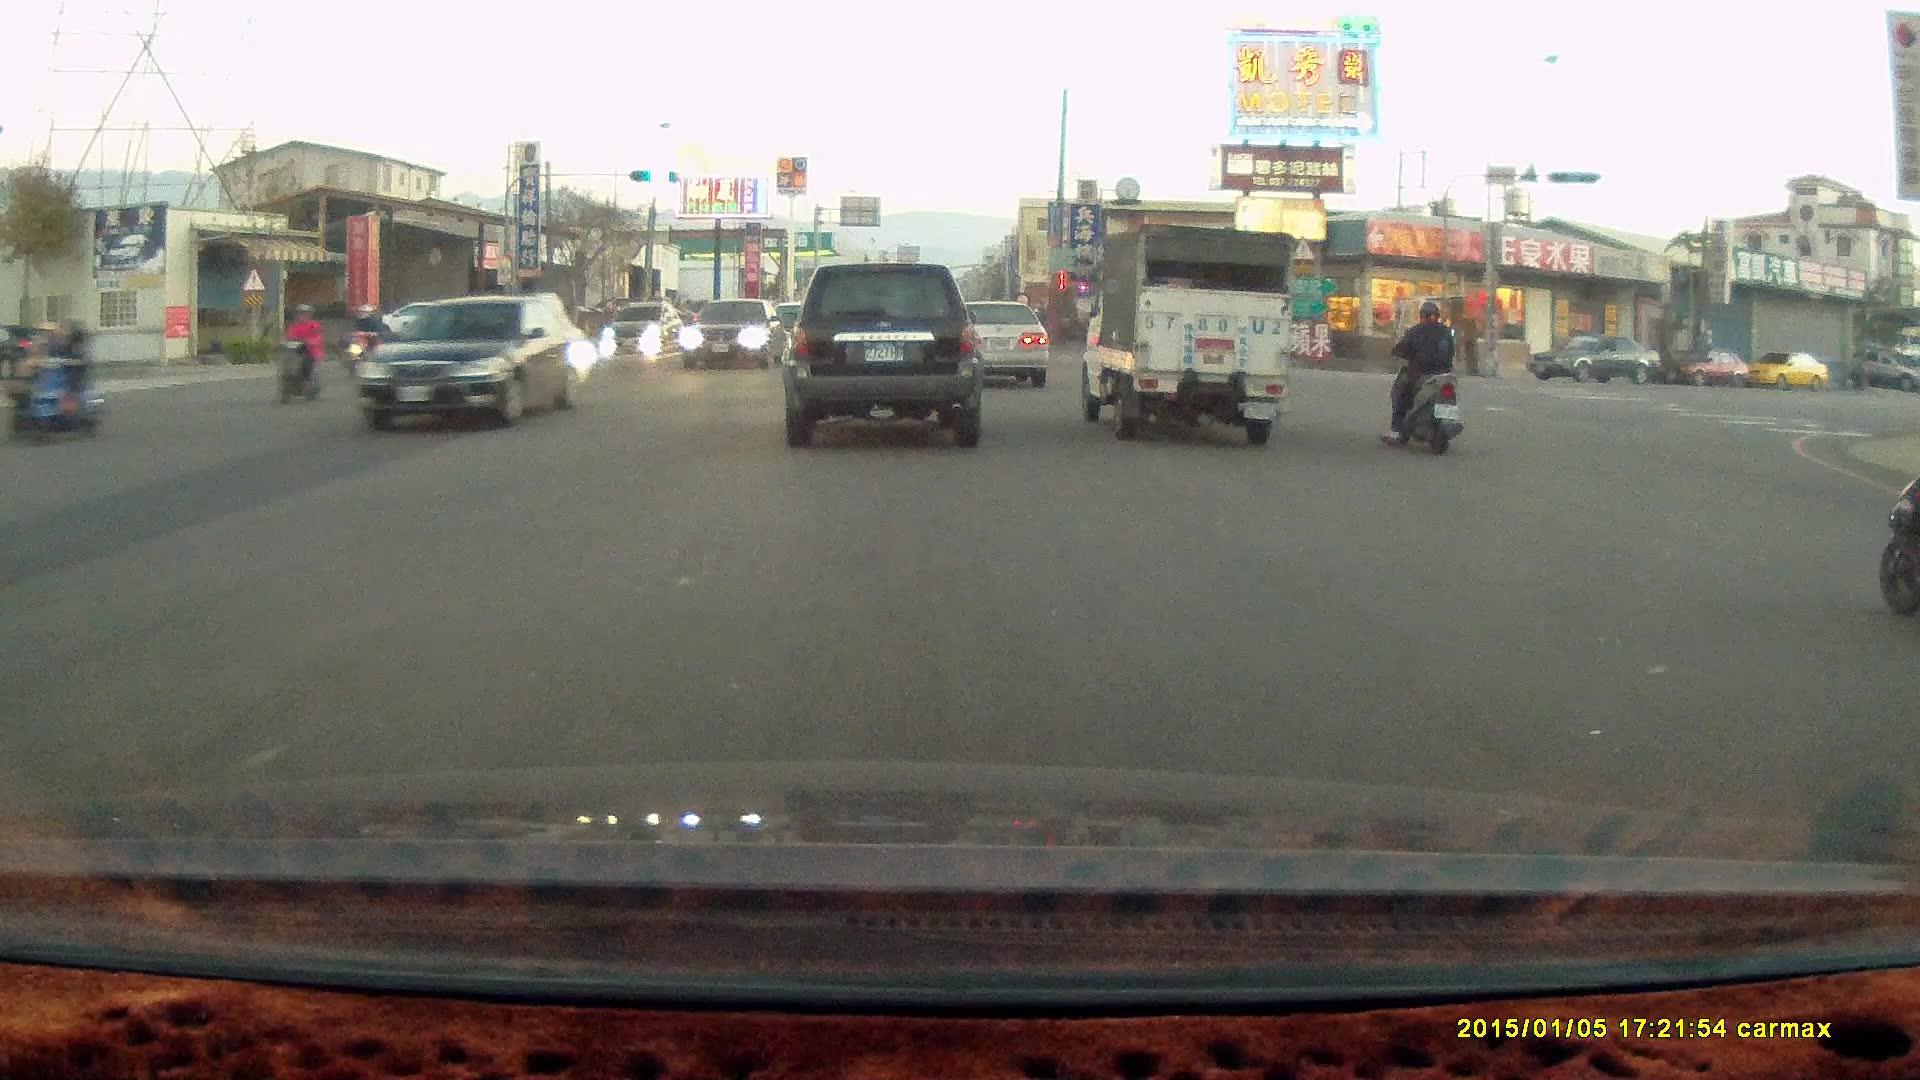rider: (1381, 295, 1463, 454), (19, 318, 108, 437), (0, 317, 66, 432), (1873, 452, 1920, 612), (275, 304, 329, 402), (342, 300, 388, 383)
vehicle: (1069, 220, 1294, 444), (779, 259, 984, 450), (351, 292, 589, 436), (934, 295, 1050, 389), (953, 300, 1052, 390), (680, 297, 790, 371), (1527, 331, 1666, 386), (376, 295, 480, 341), (605, 298, 678, 355), (1664, 346, 1753, 389), (1743, 351, 1832, 391)
